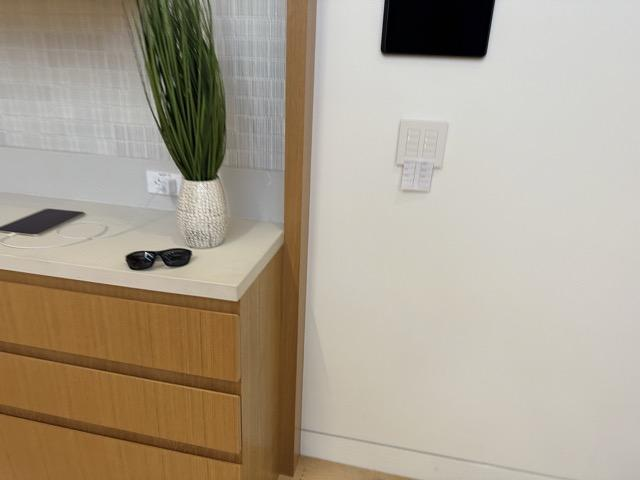Sunglasses: (124, 248, 193, 272)
